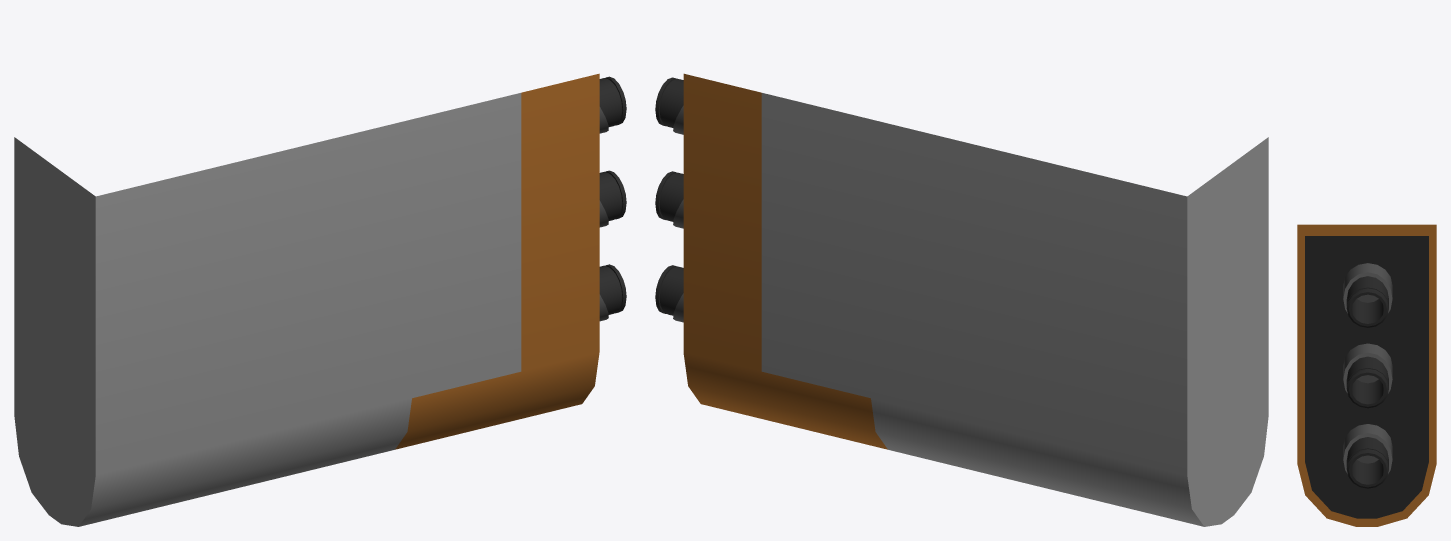
The model's file is Barrel_AR_3.glb.
3 views of the same model, side by side, from view 1: azimuth 30°, elevation 25°; view 2: azimuth 150°, elevation 25°; view 3: azimuth 270°, elevation 25° (orthographic). The views are drawn at different scales.
Parts seen in each view (by area): view 1: Barrel_AR_3; view 2: Barrel_AR_3; view 3: Barrel_AR_3.
Part boxes in pixels (x1,y1,x2,y2): Barrel_AR_3: [14, 73, 626, 526]; Barrel_AR_3: [655, 73, 1268, 526]; Barrel_AR_3: [1297, 224, 1436, 526].
Size of the model in its own units: 0.3952 by 0.2376 by 0.0993.
